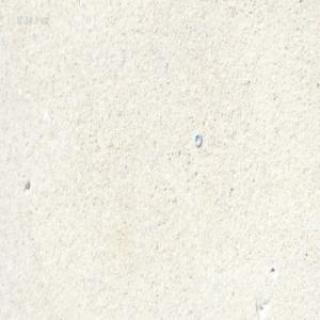Washertrack_idkeyframe: (192, 131, 200, 147)
